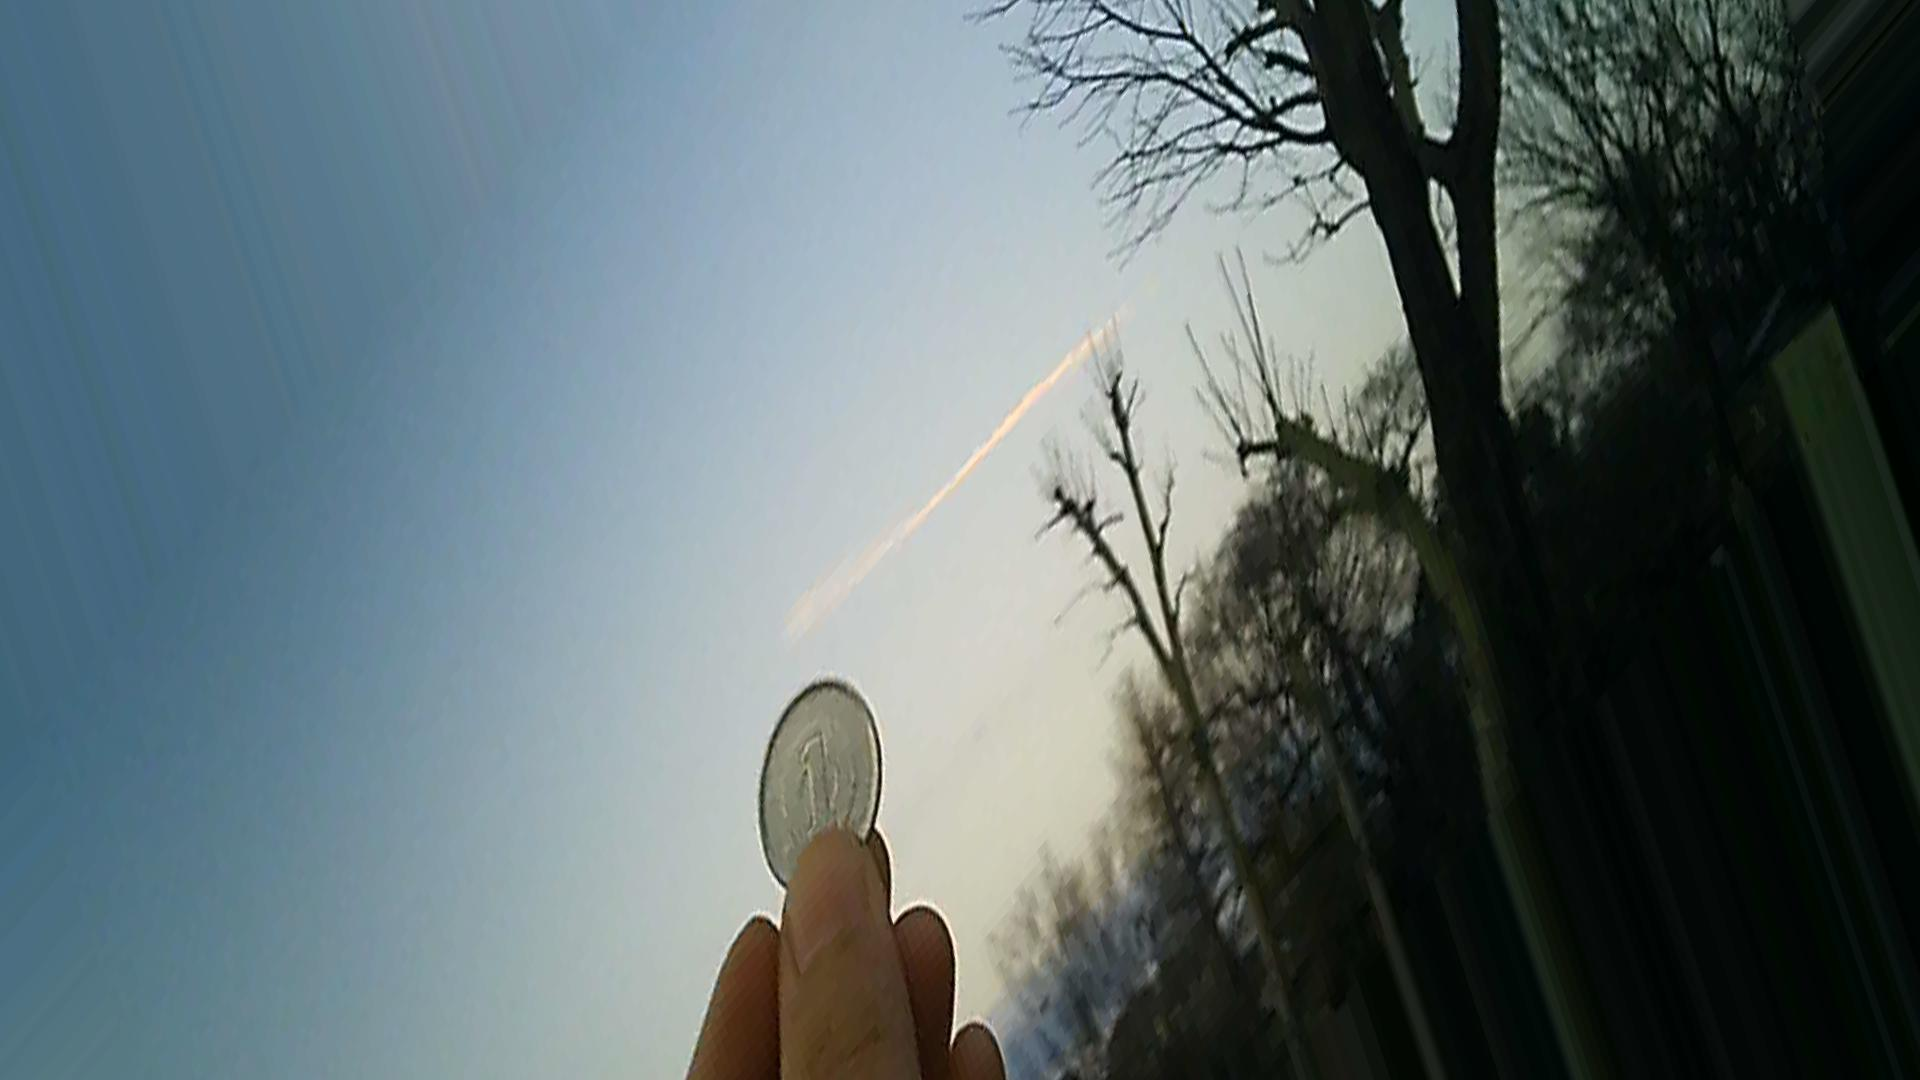1 Yen: (746, 671, 887, 881)
